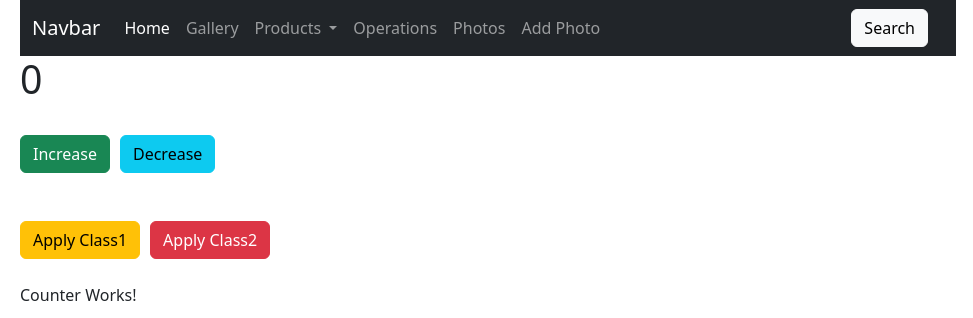
Test: counter template spec › increment test
The image size is (973, 318).
Click the button "Increase". click: (65, 154)
box: [20,135,110,173]
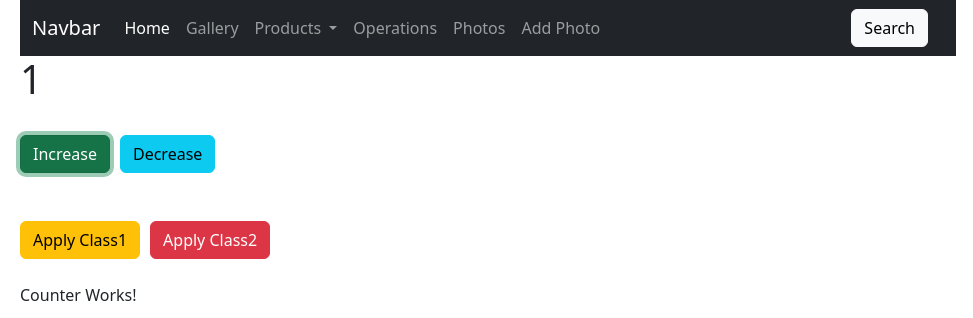
Expected: the heading "1" is shown, [20,52,42,106]
